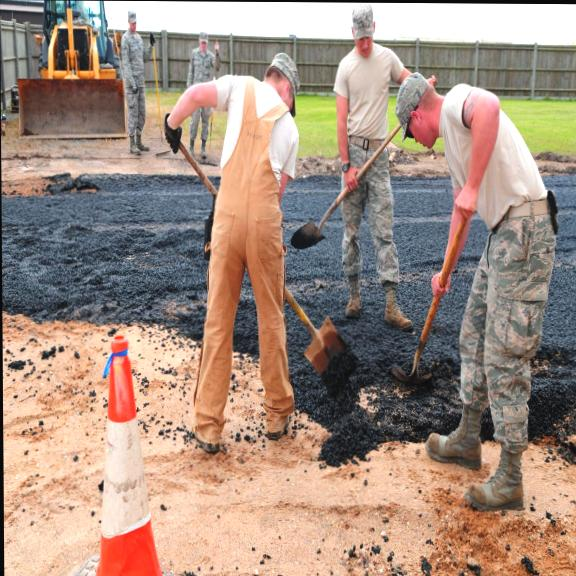no_safety_vest: (434, 76, 549, 232), (210, 80, 299, 234), (338, 34, 400, 139), (186, 40, 219, 97), (119, 30, 148, 93)
